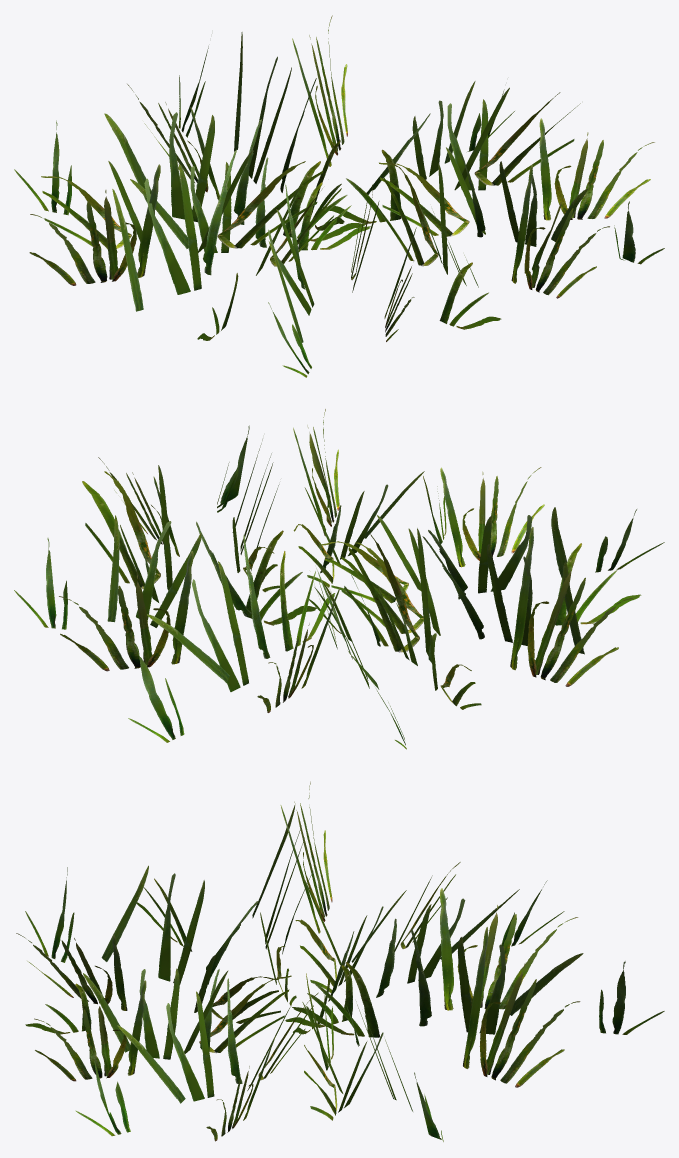
File: TER_Grass4.FBX
The picture shows the model from 3 angles, top to bottom: view 1: azimuth 30°, elevation 25°; view 2: azimuth 150°, elevation 25°; view 3: azimuth 270°, elevation 25°; orthographic projection.
Visible parts, largest first — view 1: grass4; view 2: grass4; view 3: grass4.
Part boxes in pixels (x1=…): grass4: x1=14, y1=15, x2=664, y2=377; grass4: x1=14, y1=409, x2=664, y2=749; grass4: x1=16, y1=781, x2=664, y2=1141.
Bounding box in the file's own units: 2.49 × 2.39 × 0.5825.
